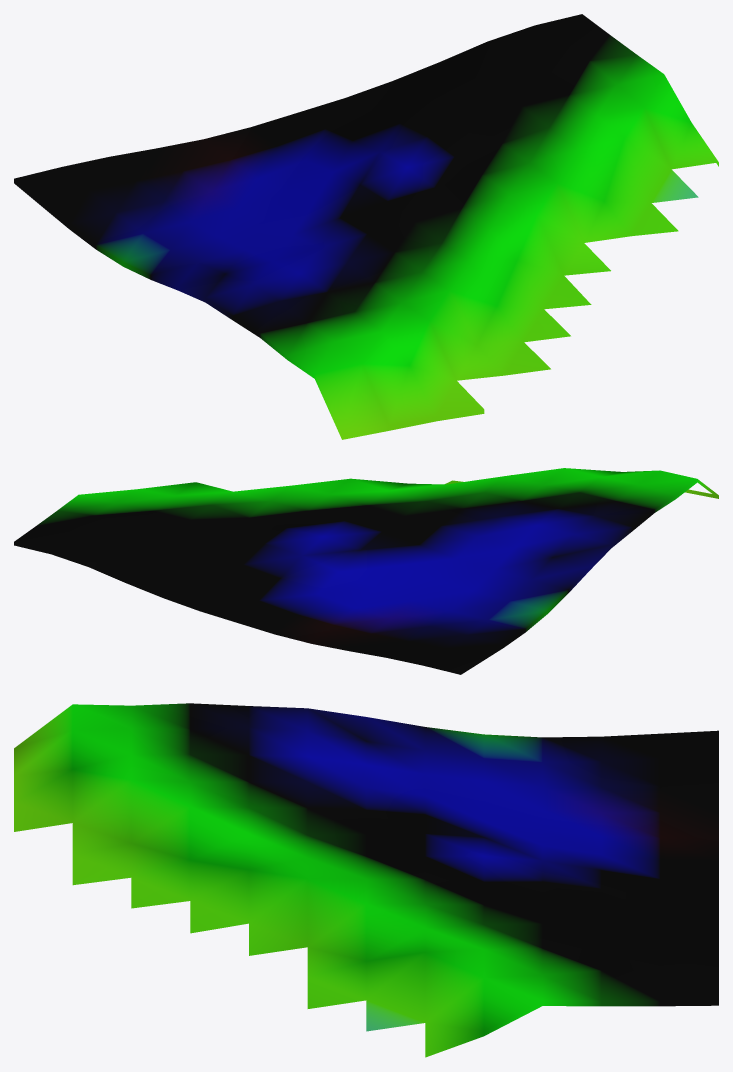
File: coast_3_8.glb
3 renders of one model, top to bottom at view 1: azimuth 30°, elevation 25°; view 2: azimuth 150°, elevation 25°; view 3: azimuth 270°, elevation 25°, orthographic. The views are drawn at different scales.
Visible parts, largest first — view 1: terrain; view 2: terrain; view 3: terrain.
Part boxes in pixels (<box>): terrain: <box>14,14,718,439</box>; terrain: <box>14,468,718,674</box>; terrain: <box>14,703,718,1057</box>.
Size of the model in its own units: 192 by 19.54 by 192.
